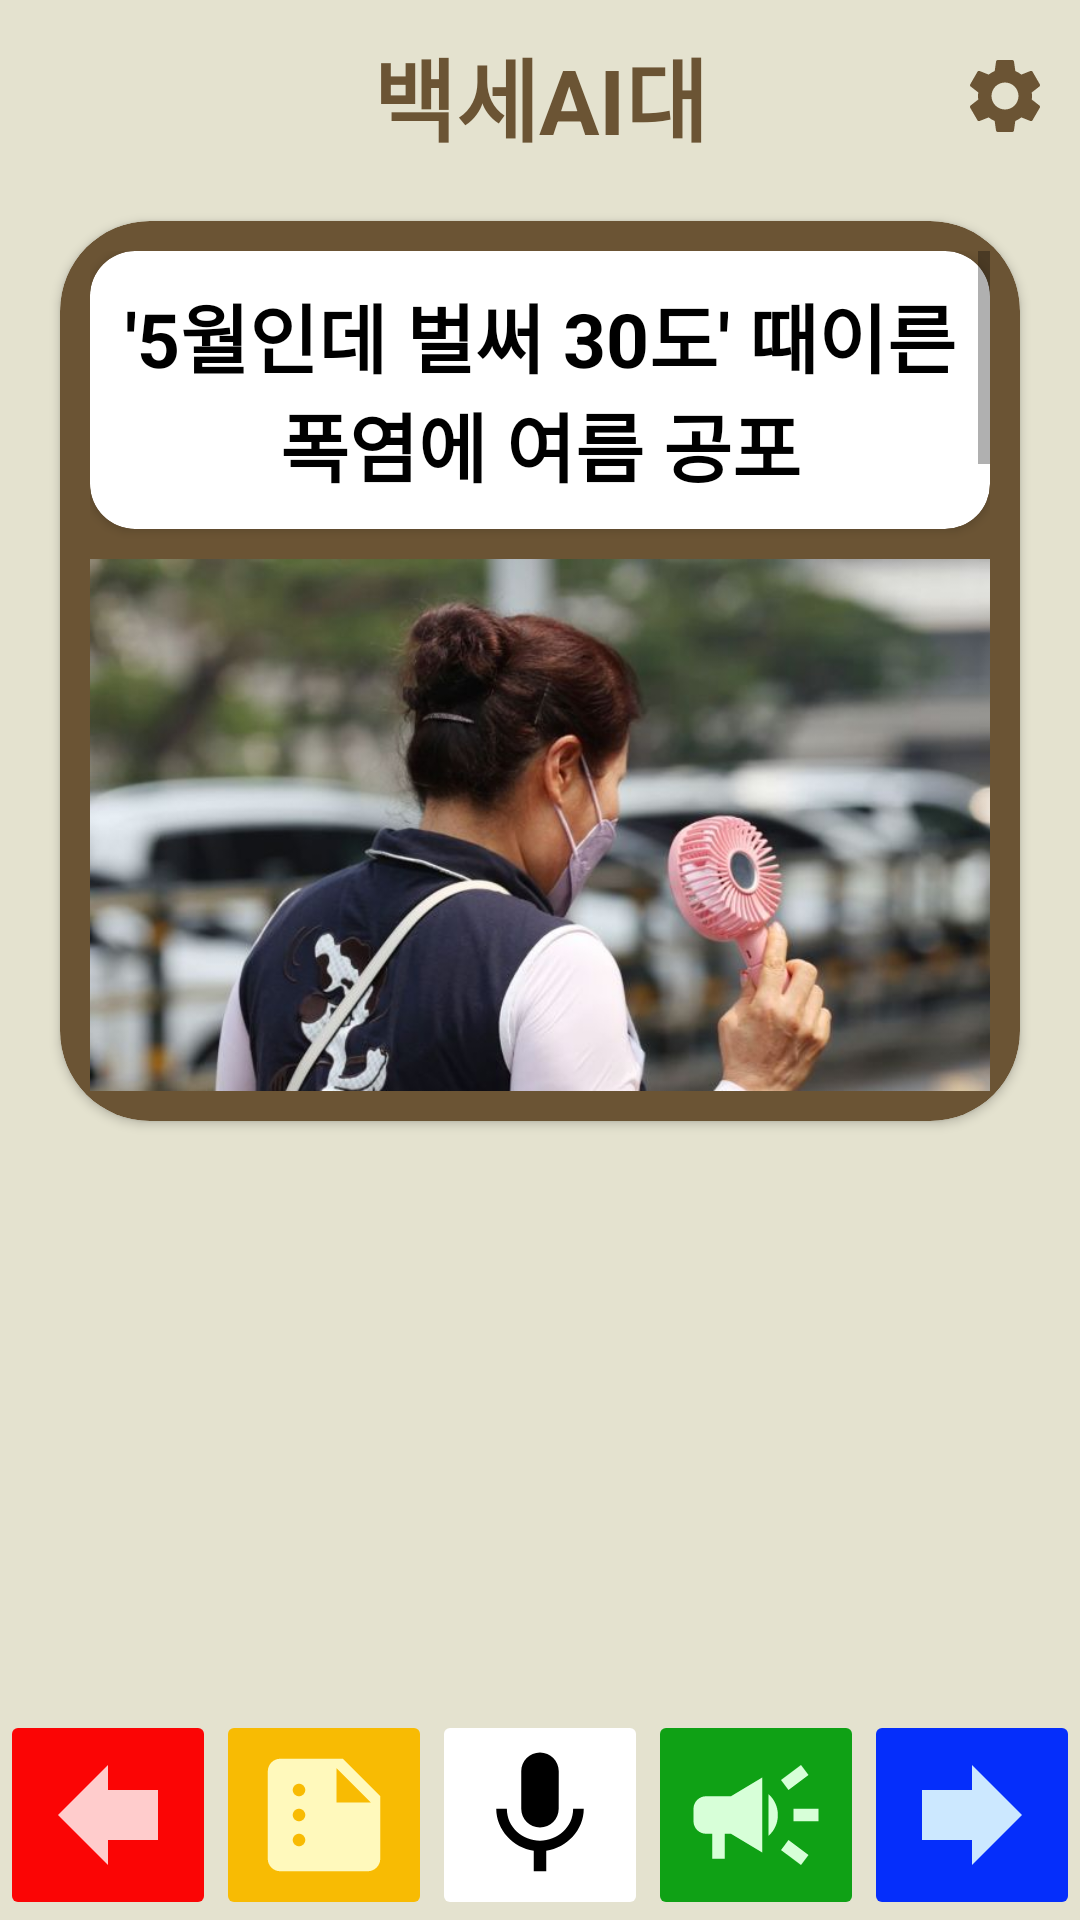

Named icons in this screenshot (1080w x 1920h) and their centers, (x,y):
campaign: (756,1815)
forward: (972,1815)
mic: (540,1815)
settings: (1005,96)
summarize: (324,1815)
